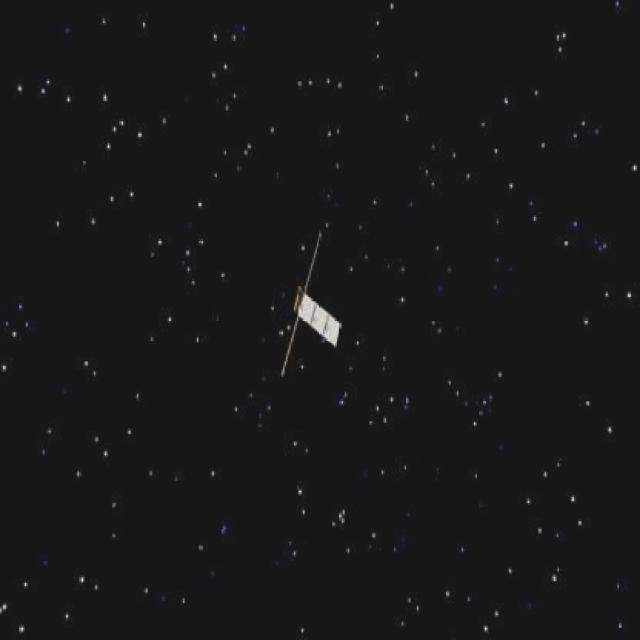medium_debris: (267, 229, 350, 402)
